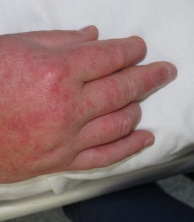SJS-TEN: (0, 23, 185, 196)
